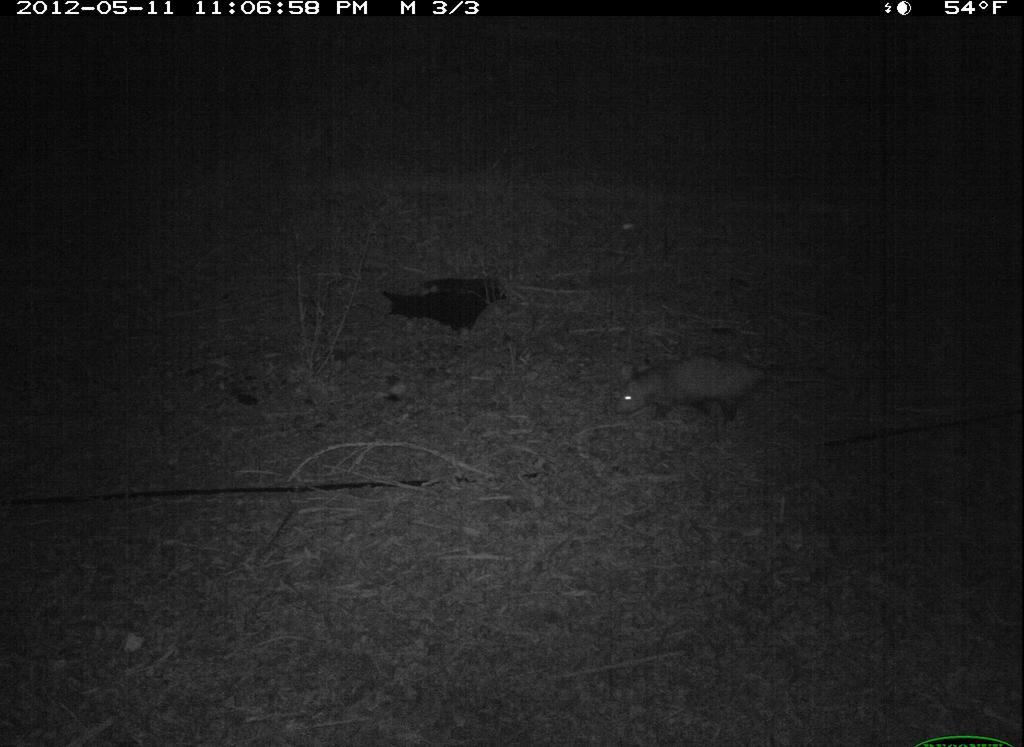opossum: (609, 345, 849, 432)
